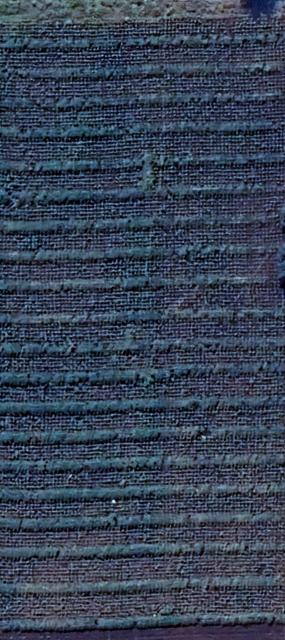Farms: (2, 12, 285, 640)
